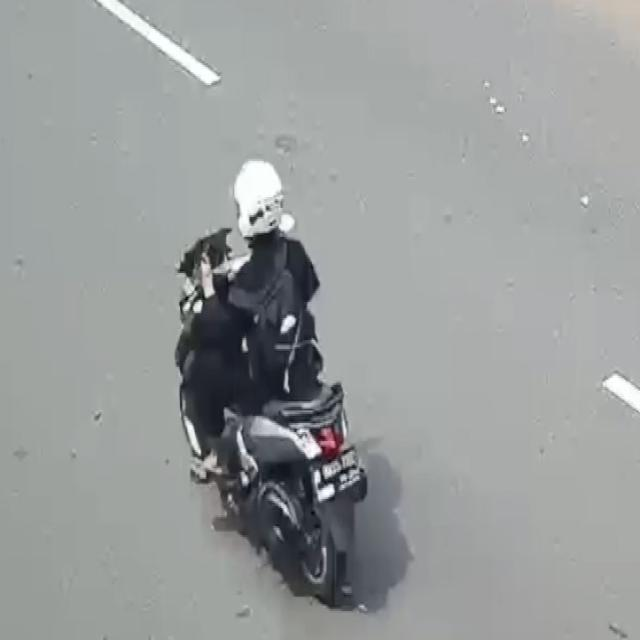helm: (221, 153, 290, 252)
motor: (172, 148, 369, 620)
